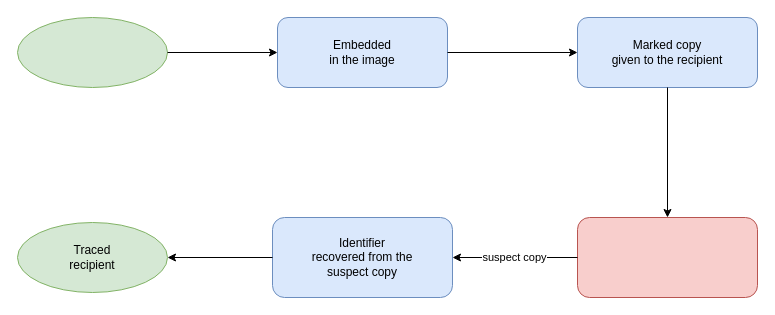
The diagram is 775 pixels wide and 315 high, and some of its shapes have lost their labels. The shapes that lost their labels are listed below. From the top down, each one's box as (x1, y1, x2, y2) in pixels, then its label:
(16, 16, 168, 88): Recipient identifier
(576, 216, 758, 298): Shared / leaked (recompression, resizing, cropping, rotation)
